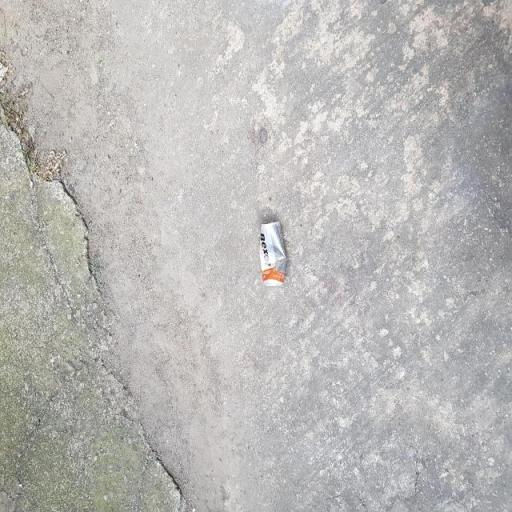metal: (246, 206, 300, 298)
